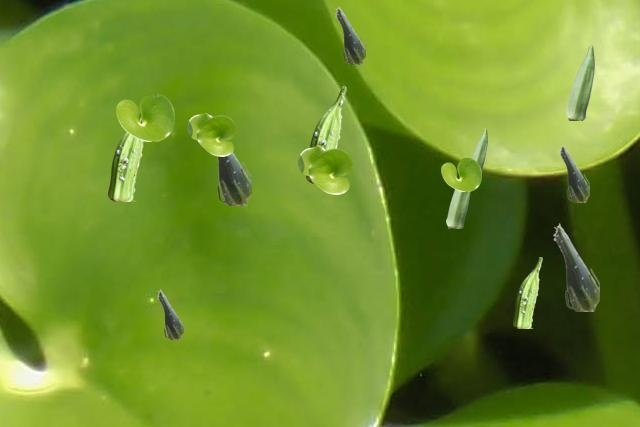okra: (553, 223, 598, 310), (306, 86, 345, 182), (108, 116, 144, 200), (566, 45, 593, 119), (513, 257, 541, 327), (216, 152, 250, 204), (559, 144, 588, 201), (335, 6, 364, 63), (157, 289, 182, 338), (446, 190, 470, 227), (472, 128, 486, 172)
